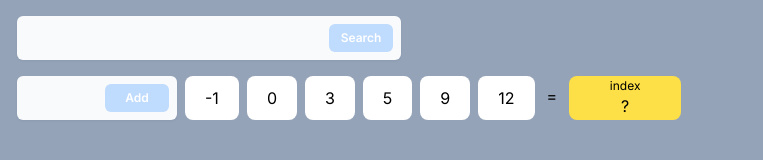
Test case: HomePage › Add number › should add a valid number when button is clicked
The width and height of the screenshot is (763, 160).
In the number field with test id "add-input": (97, 98) [17,76,177,120], type "10"
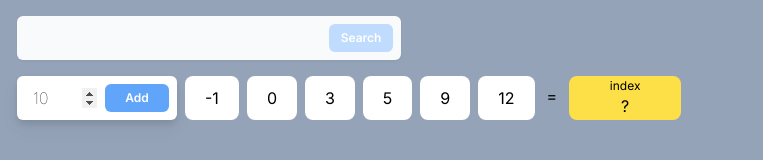
Click the button with test id "add-button": (137, 98) [105,84,169,112]
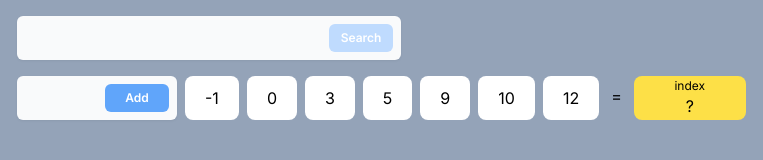
Expected: the text with test id "item-5" reads "10", [498,88,515,108]
